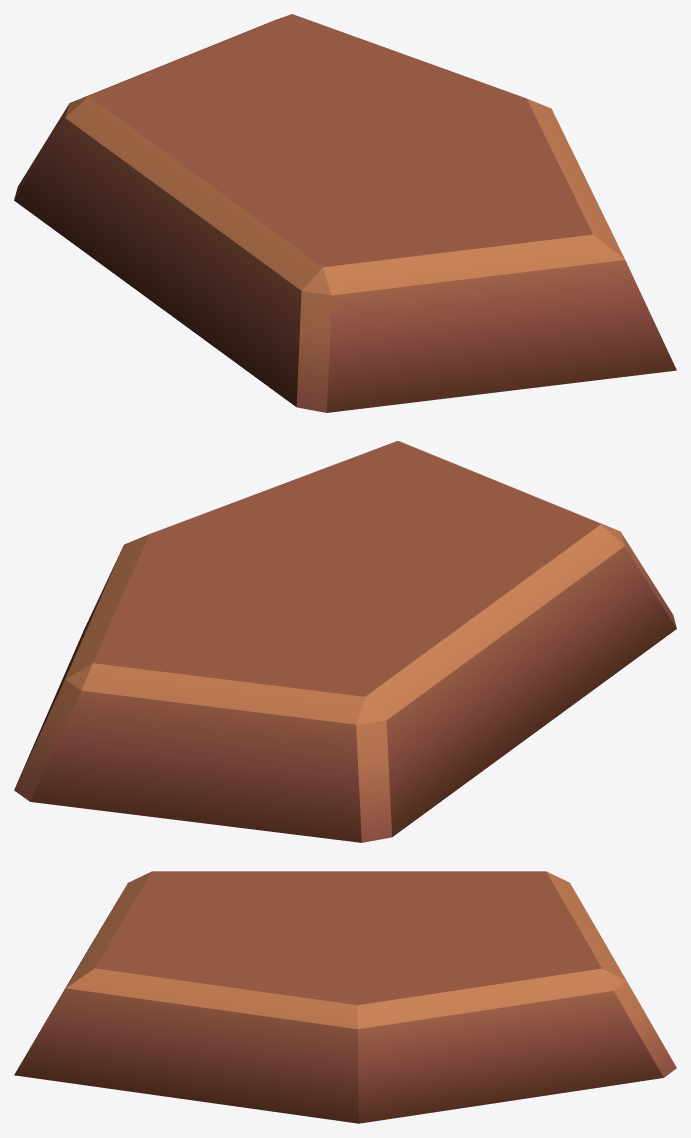
Rendered from Roadstones-2-2.fbx.
The picture shows the model from 3 angles, top to bottom: view 1: azimuth 30°, elevation 25°; view 2: azimuth 150°, elevation 25°; view 3: azimuth 270°, elevation 25°; orthographic projection. The views are drawn at different scales.
Visible parts, largest first — view 1: Roadstones-2-2; view 2: Roadstones-2-2; view 3: Roadstones-2-2.
Part boxes in pixels (<box>): Roadstones-2-2: <box>14,14,676,412</box>; Roadstones-2-2: <box>14,441,676,842</box>; Roadstones-2-2: <box>14,871,676,1123</box>.
Size of the model in its own units: 75.88 by 18.02 by 117.
